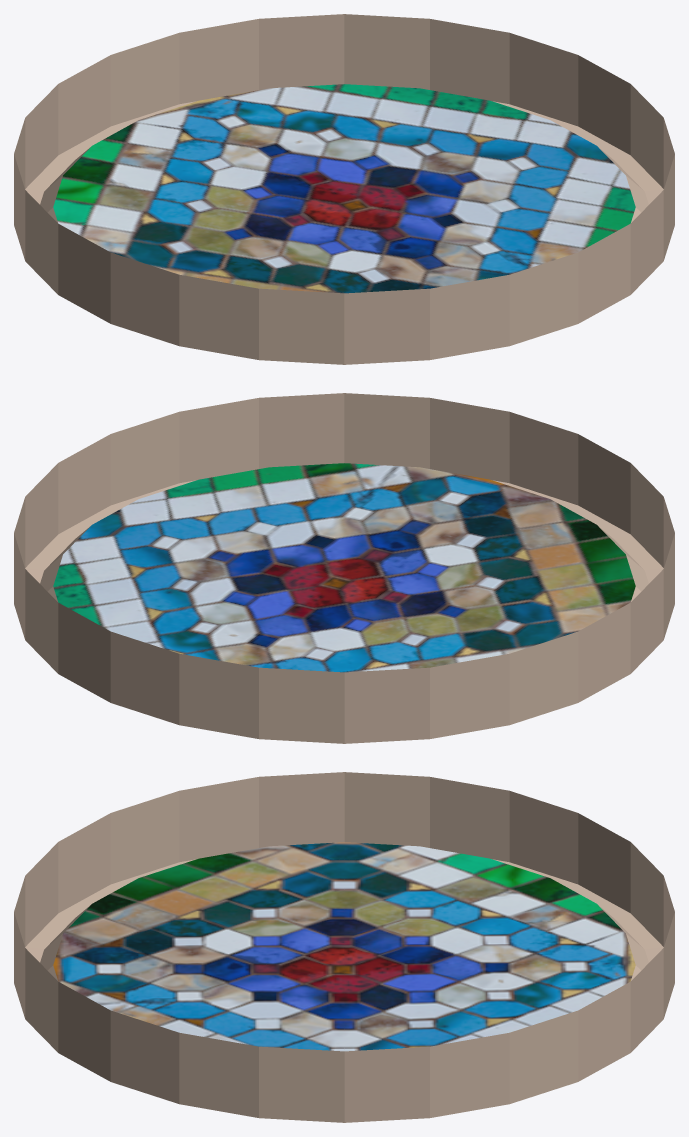
File: BC_Insideceiling_C.fbx
3 renders of one model, top to bottom at view 1: azimuth 30°, elevation 25°; view 2: azimuth 150°, elevation 25°; view 3: azimuth 270°, elevation 25°, orthographic.
Visible parts, largest first — view 1: BC_Insideceiling_C; view 2: BC_Insideceiling_C; view 3: BC_Insideceiling_C.
Part boxes in pixels (x1,y1,x2,y2): BC_Insideceiling_C: (14, 14, 674, 364); BC_Insideceiling_C: (14, 393, 674, 743); BC_Insideceiling_C: (14, 772, 674, 1122).
Bounding box in the file's own units: 1477 × 177 × 1477.
2 materials, 1 textured.
